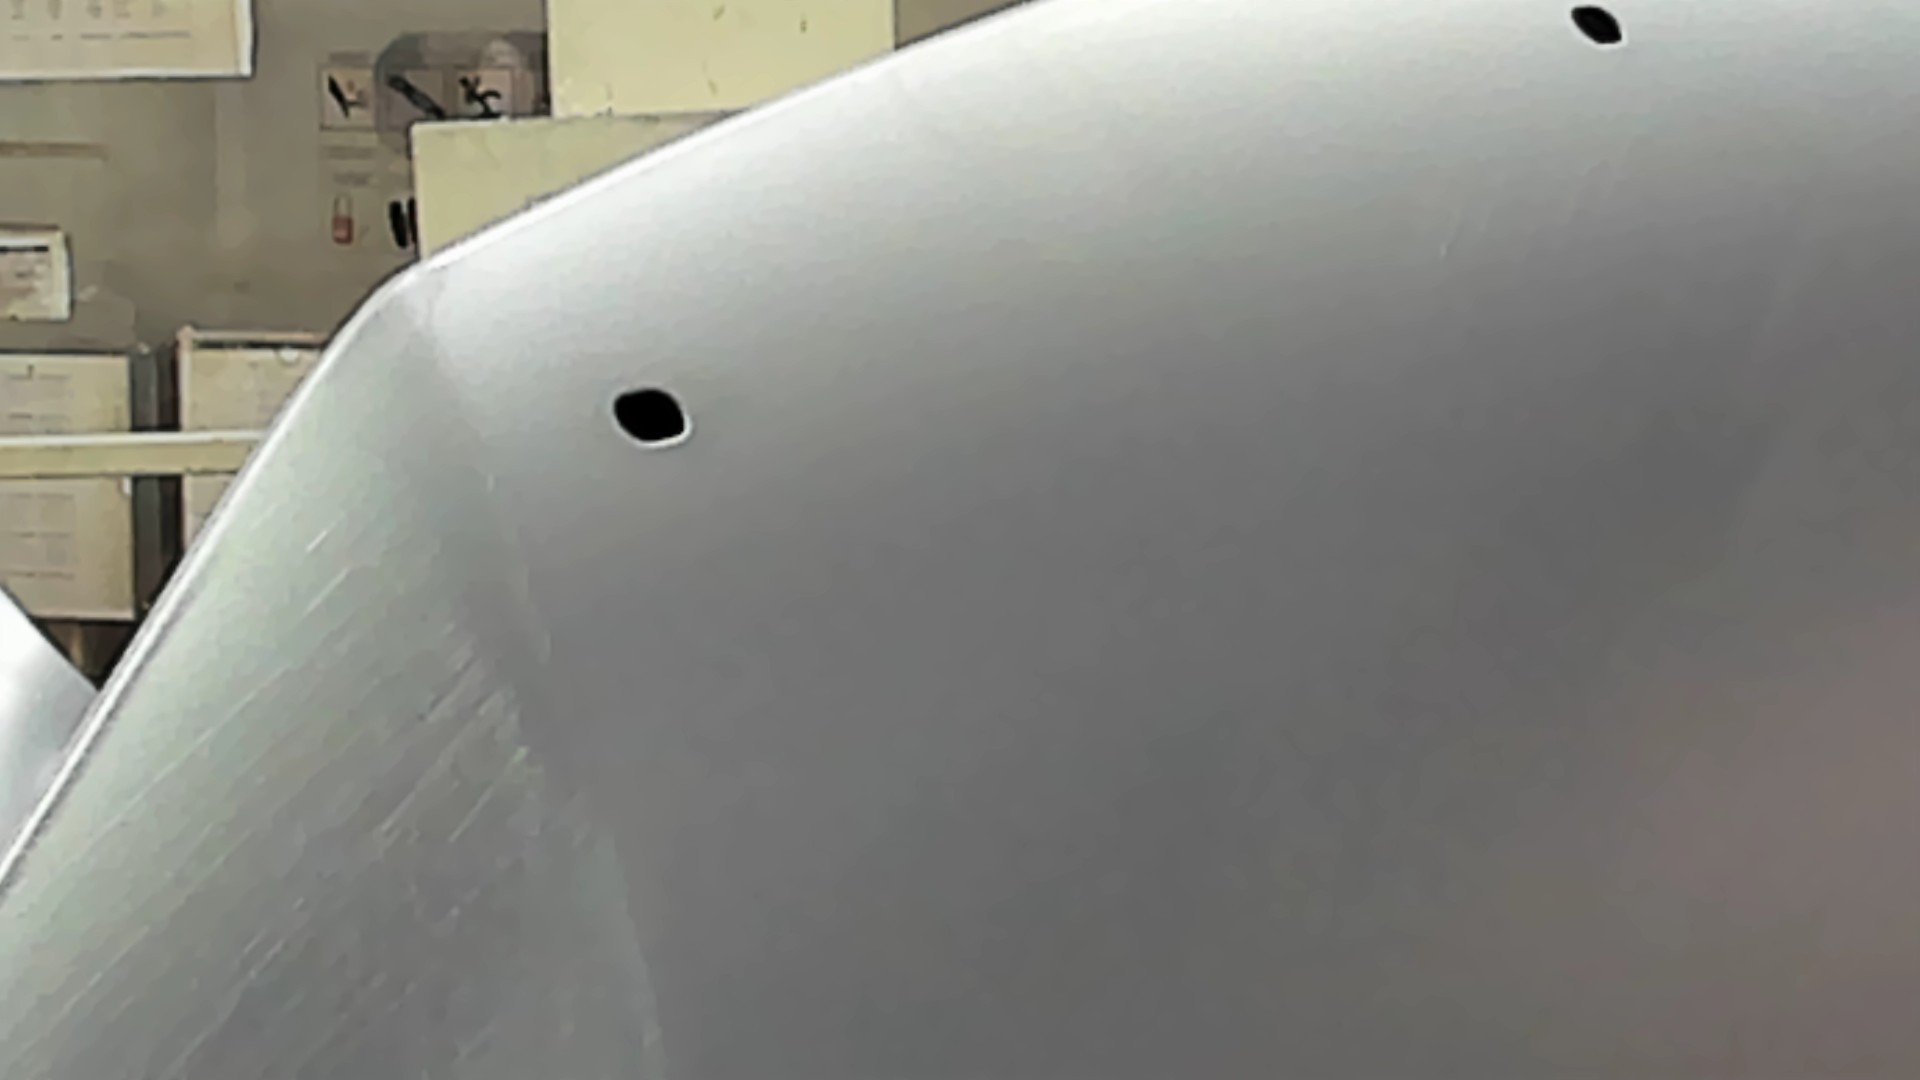amorfo: (607, 382, 695, 451), (1568, 1, 1629, 55)
capo: (740, 142, 1920, 1080)
